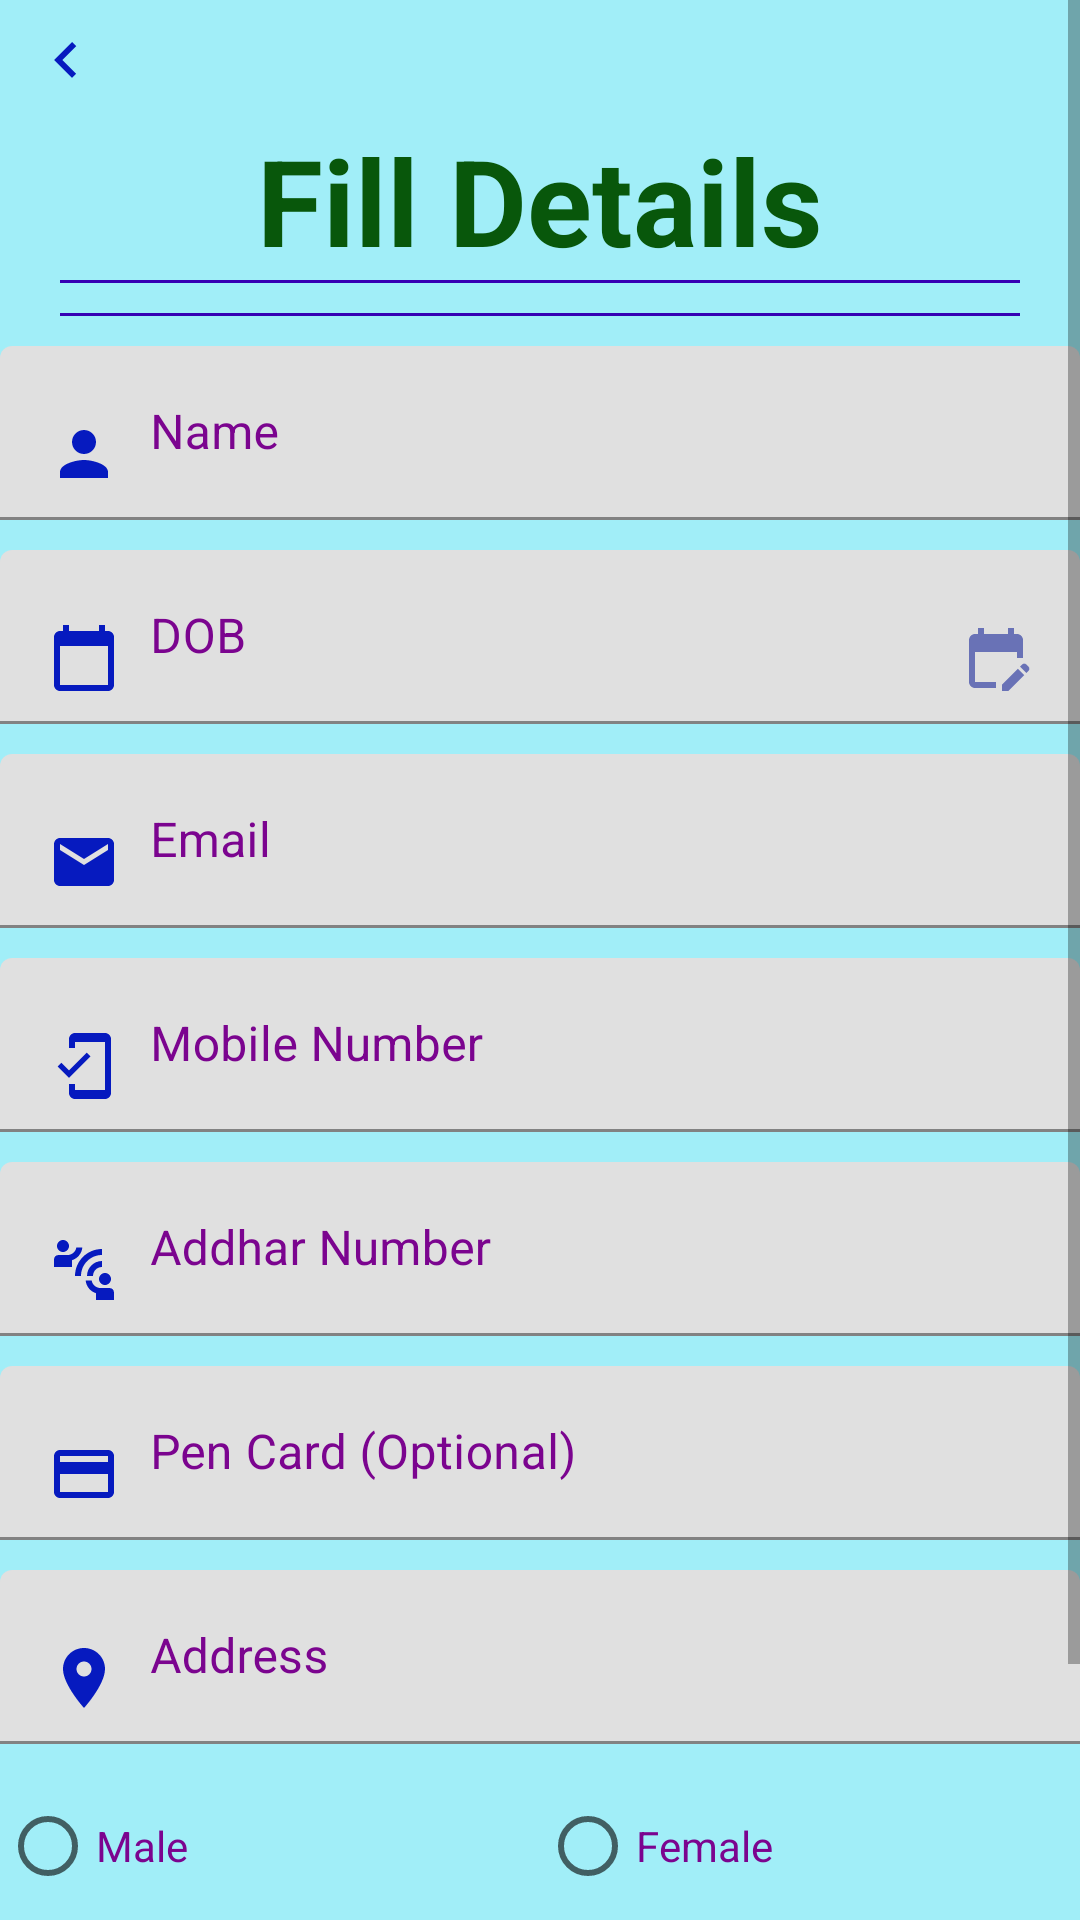

Where icons sit on this 1080px x 1920px app screen, as Rect(x1, y1, x2, y2):
keyboard arrow left: Rect(54, 42, 76, 78)
